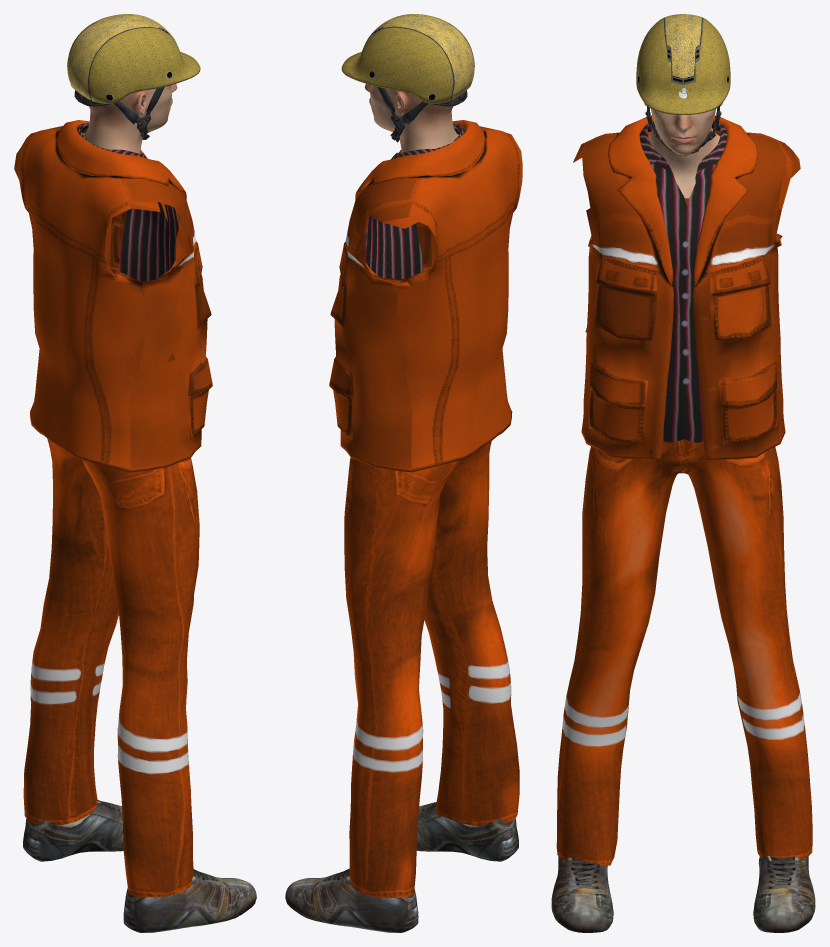
The model's file is jeff_body.dae.
3 renders of one model, left to right at view 1: azimuth 30°, elevation 25°; view 2: azimuth 150°, elevation 25°; view 3: azimuth 270°, elevation 25°, orthographic.
Visible parts, largest first — view 1: jeff_w-male_casualsuit05, jeff_w-riding_helmet, jeff_w-shoes02, jeff_w-base; view 2: jeff_w-male_casualsuit05, jeff_w-riding_helmet, jeff_w-shoes02, jeff_w-base; view 3: jeff_w-male_casualsuit05, jeff_w-riding_helmet, jeff_w-shoes02, jeff_w-base.
Boxes of the visible parts, x1,y1,x2,y2 form: jeff_w-male_casualsuit05: (14,120,212,897); jeff_w-riding_helmet: (67,14,200,139); jeff_w-shoes02: (23,800,256,932); jeff_w-base: (83,84,177,153); jeff_w-male_casualsuit05: (329,120,522,897); jeff_w-riding_helmet: (341,14,474,142); jeff_w-shoes02: (285,802,518,932); jeff_w-base: (364,84,458,152); jeff_w-male_casualsuit05: (556,115,812,865); jeff_w-riding_helmet: (636,14,730,155); jeff_w-shoes02: (551,855,815,932); jeff_w-base: (644,103,722,198).
Size of the model in its own units: 437 by 638 by 2342.
6 materials, 6 textured.
